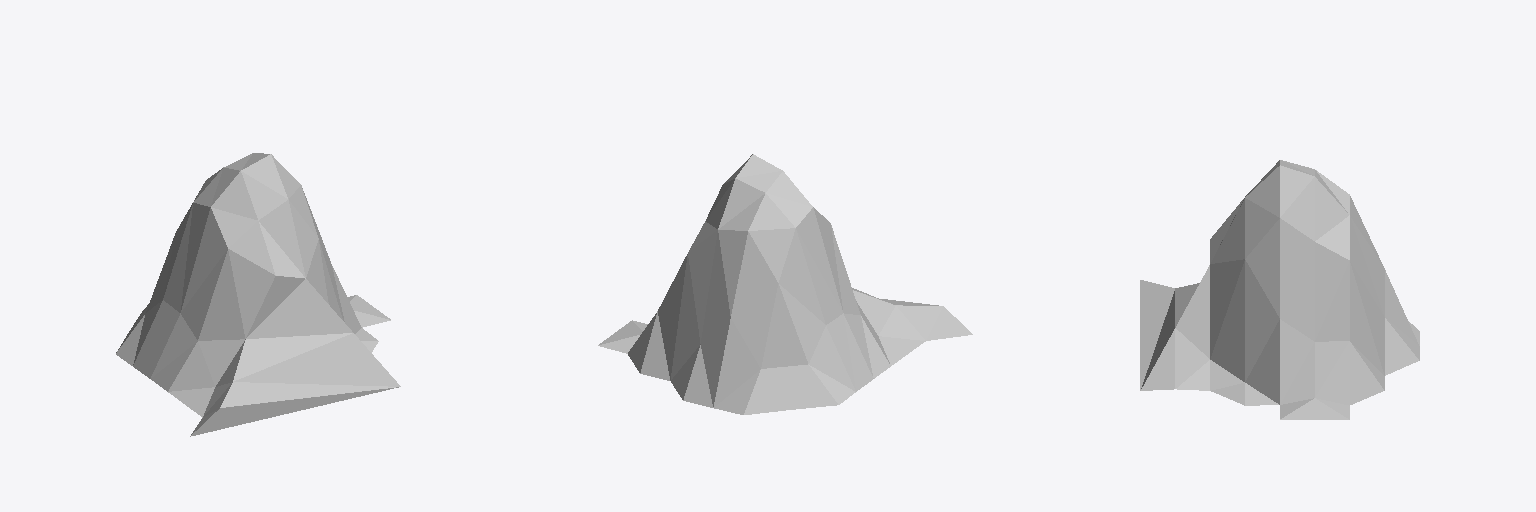
The model's file is tree_60.obj.
3 renders of one model, left to right at view 1: azimuth 30°, elevation 25°; view 2: azimuth 150°, elevation 25°; view 3: azimuth 270°, elevation 25°, orthographic.
Parts seen in each view (by area): view 1: tree_60_minus_dtm; view 2: tree_60_minus_dtm; view 3: tree_60_minus_dtm.
Part boxes in pixels (bbox=[...]): tree_60_minus_dtm: bbox=[116, 153, 400, 436]; tree_60_minus_dtm: bbox=[598, 154, 972, 414]; tree_60_minus_dtm: bbox=[1140, 160, 1419, 419].
Bounding box in the file's own units: 9 × 6.22 × 8.